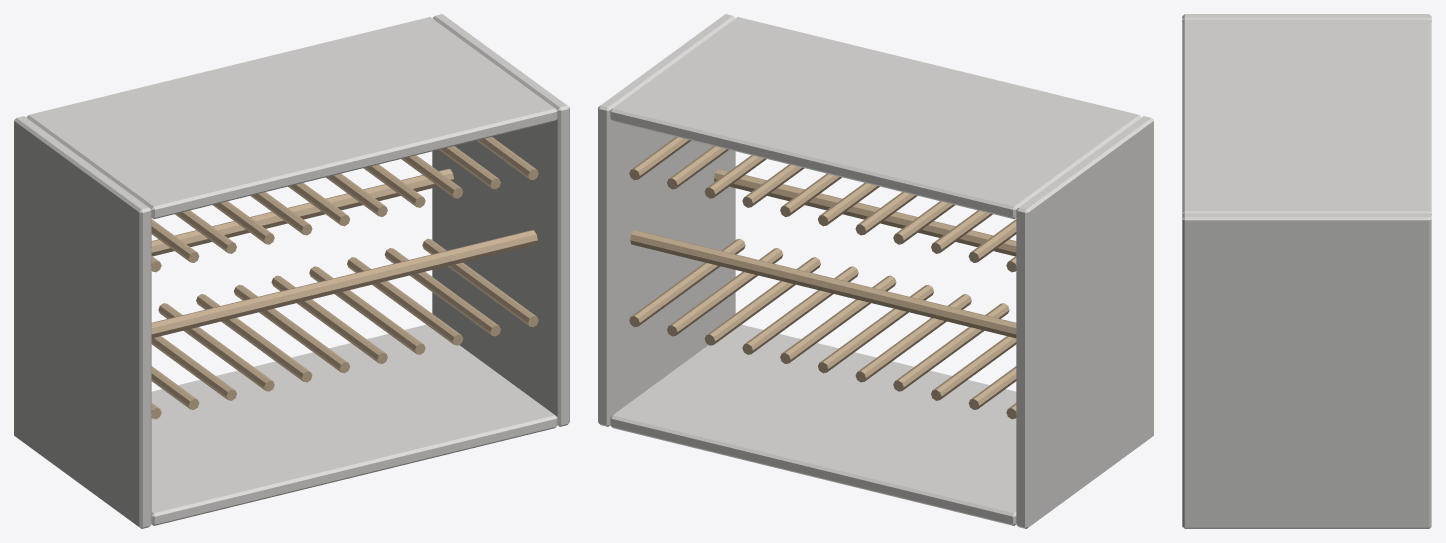
Rendered from fitted-kitchen-and-bathroom-builder-plate-rack-7beb8fd7__17860.glb.
3 views of the same model, side by side, from view 1: azimuth 30°, elevation 25°; view 2: azimuth 150°, elevation 25°; view 3: azimuth 270°, elevation 25° (orthographic). The views are drawn at different scales.
Parts seen in each view (by area): view 1: plate-rack; view 2: plate-rack; view 3: plate-rack.
Boxes of the visible parts, <box> form: plate-rack: <box>14,14,569,528</box>; plate-rack: <box>598,14,1153,528</box>; plate-rack: <box>1182,14,1431,528</box>.
Bounding box in the file's own units: 0.564 × 0.4 × 0.29.
